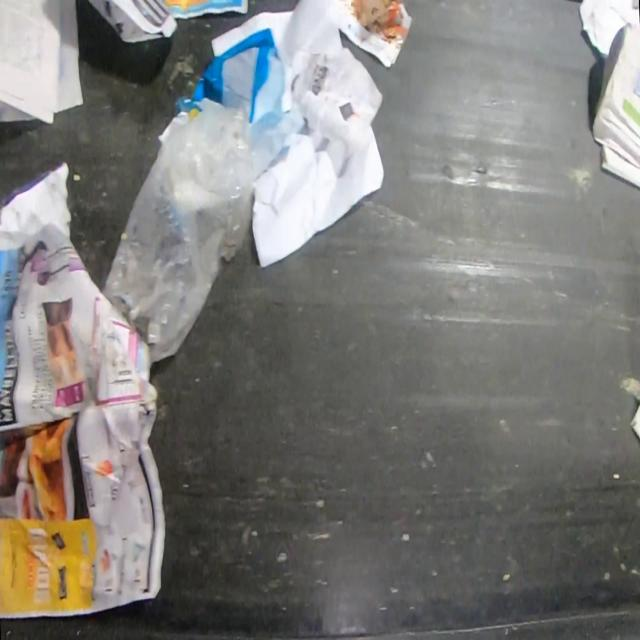soft_plastic: (104, 106, 252, 368), (174, 22, 308, 186)
